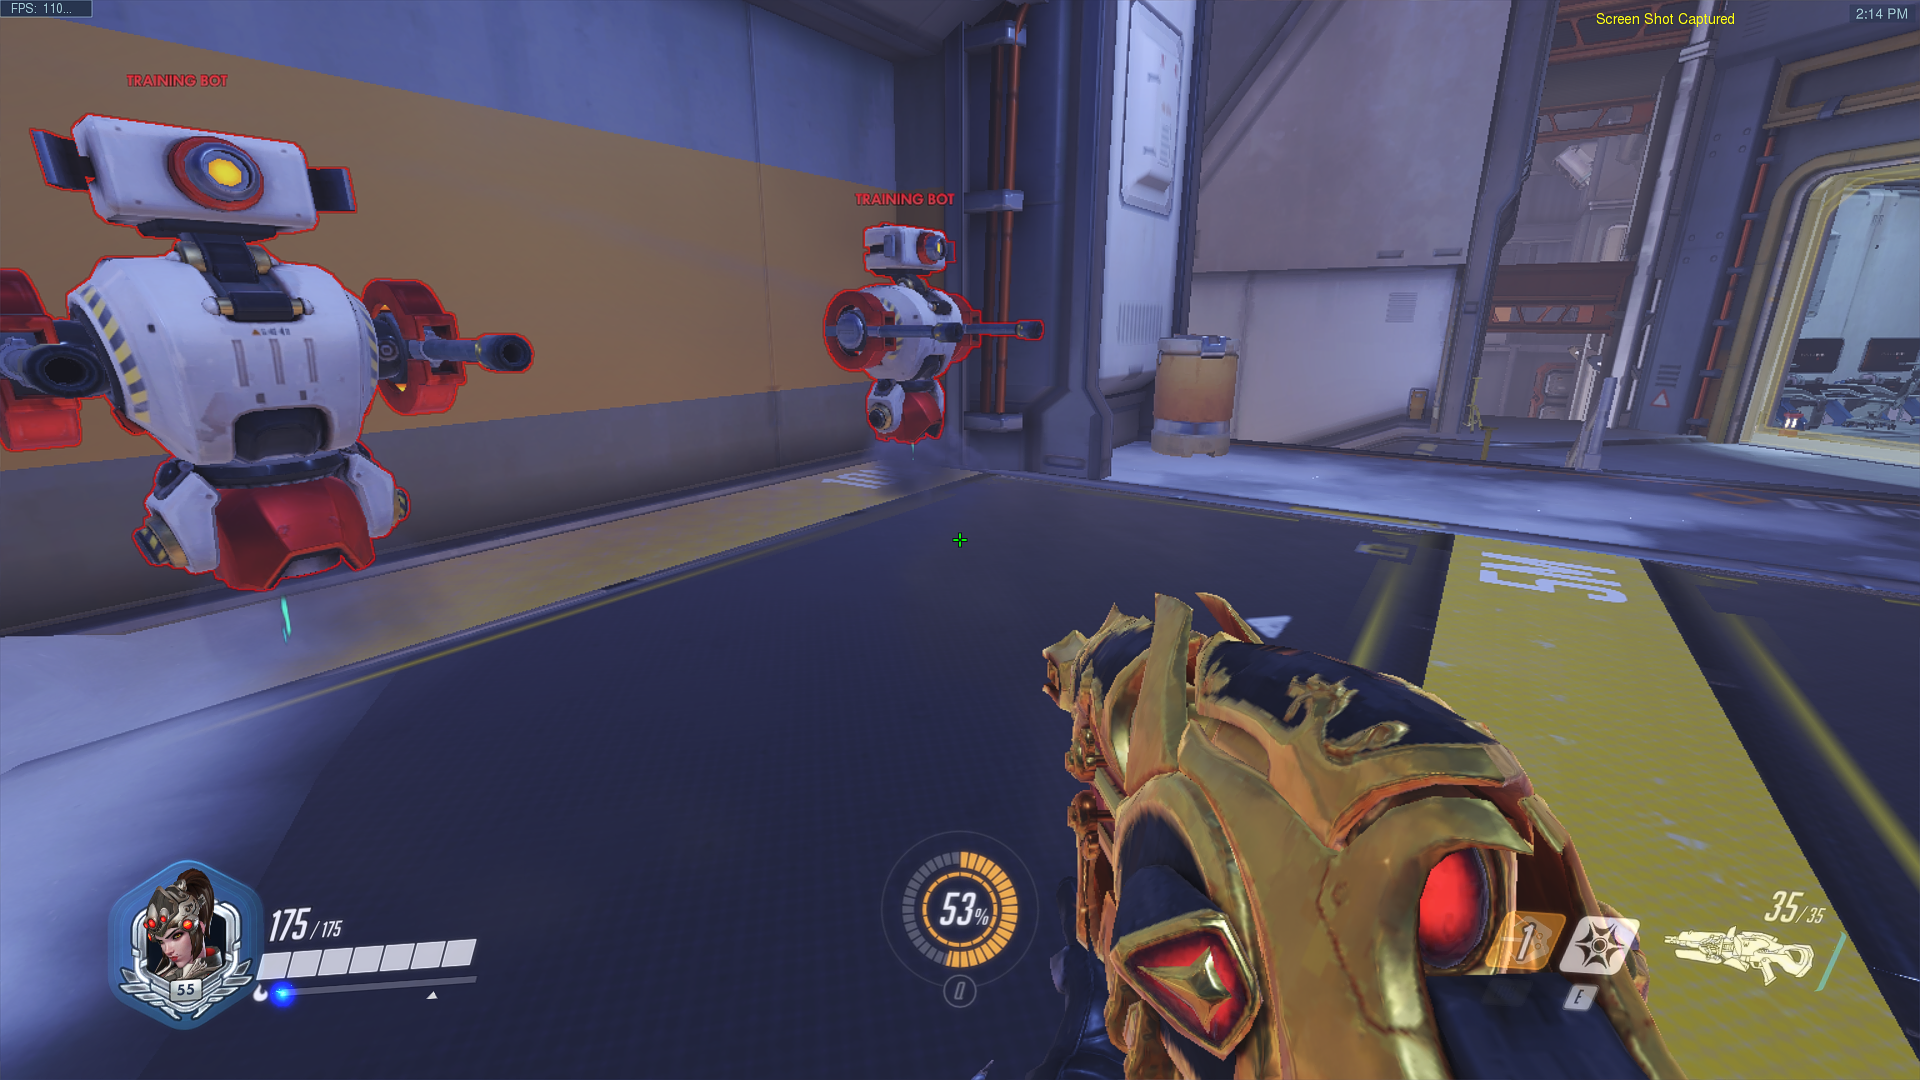head: (64, 109, 316, 235), (857, 219, 956, 272)
